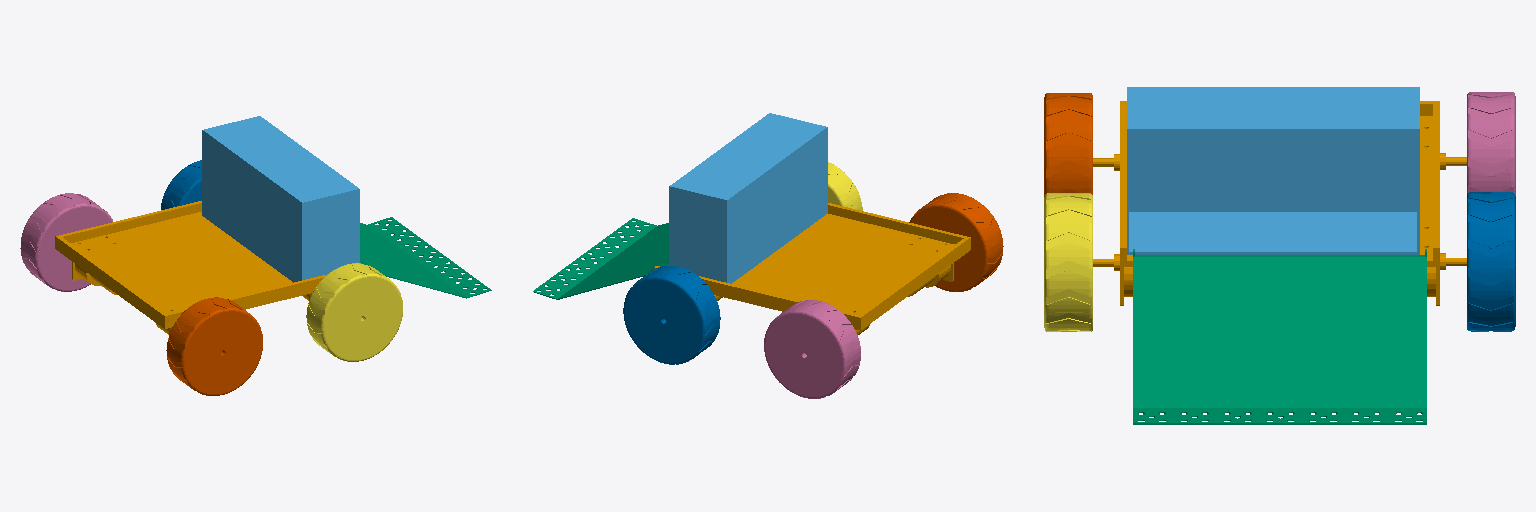
The robot description file, URDF, robot "swcr":
<?xml version="1.0"?>
<robot name="swcr">
  <link name="base_link">
    <visual>
    	<origin rpy="0.0 0 0" xyz="0 0 0"/>
          <geometry>
            <mesh filename="package://swcr/meshes/base_link.dae"/>
          </geometry>
    </visual>
  </link>

  <link name="bin_link">
    <visual>
      <origin xyz="0 0 0" rpy="0 0 0"/>
      <geometry>
        <mesh filename="package://swcr/meshes/Bin_Link.dae"/>
      </geometry>
    </visual>
  </link>
  <joint name="bin_joint" type="fixed">
  	<parent link="base_link"/>
  	<child link="bin_link"/>
  	<origin xyz="0.045 -0.00500000000000001 0.0525" rpy="3.14159265358979 0 -1.570796326794"/>
  </joint>

  <link name="pan_link">
  	<visual>
  		<origin xyz="0 0 0" rpy="0 0 0"/>
  		<geometry>
  			<mesh filename="package://swcr/meshes/Pan_Link.dae"/>
  		</geometry>
  	</visual>
  </link>
  <joint name="pan_joint" type="fixed">
  	<parent link="base_link"/>
  	<child link="pan_link"/>
  	<origin rpy="1.5707963267949 -0.0688308576600601 0" xyz="0.11821106537886 0 0.0043695506838019"/>
  </joint>

  <link name="wheel1f_link">
  	<visual>
  		<origin xyz="0.085 -0.1513 -0.0175650643543415" rpy="1.86455912828869 0 1.5707963267949"/>
      <geometry>
        <mesh filename="package://swcr/meshes/Wheel1R_Link.dae"/>
      </geometry>
    </visual>
  </link>
  <joint name="wheel_joint" type="continuous">
      <axis xyz="1 0 0" rpy="0 0 0" />
      <parent link="base_link"/>
      <child link="wheel1f_link"/>
      <origin xyz="0 0 0" rpy="0 0 0"/>
   </joint>

  <link name="wheel2f_link">
  	<visual>
  		<origin xyz="0 0 0" rpy="0 0 0"/>
  		<geometry>
  			<mesh filename="package://swcr/meshes/Wheel1R_Link.dae"/>
  		</geometry>
  	</visual>
  </link>
  <joint name="wheel2f_joint" type="fixed">
  	<parent link="base_link"/>
  	<child link="wheel2f_link"/>
  	<origin xyz="0.0823186569435573 0.1513 -0.0180989682049121" rpy="-1.5707963267949 0 -1.5707963267949"/>
   </joint>


   <link name="wheel1b_link">
  	<visual>
  		<origin xyz="0 0 0" rpy="0 0 0"/>
      <geometry>
        <mesh filename="package://swcr/meshes/Wheel1R_Link.dae"/>
      </geometry>
    </visual>
  </link>
  <joint name="wheel1b_joint" type="fixed">
  	<parent link="base_link"/>
  	<child link="wheel1b_link"/>
  	<origin xyz="-0.085 -0.1513 -0.0175650643543415" rpy="1.86455912828869 0 1.5707963267949"/>
  </joint>

  <link name="wheel2b_link">
  	<visual>
  		<origin xyz="0 0 0" rpy="0 0 0"/>
      <geometry>
        <mesh filename="package://swcr/meshes/Wheel1R_Link.dae"/>
      </geometry>
    </visual>
  </link>
  <joint name="wheel2b_joint" type="fixed">
  	<parent link="base_link"/>
  	<child link="wheel2b_link"/>
  	<origin xyz="-0.087681 0.1513 -0.018099" rpy="2.7665 0 -1.5708"/>
  </joint>
</robot>

--- What the picture shows (computed from the rendered views, not written in the file) ---
Views: 3 orthographic renders of the robot side by side, from view 1: azimuth 30°, elevation 25°; view 2: azimuth 150°, elevation 25°; view 3: azimuth 270°, elevation 25°.
Robot: swcr — 7 links, 6 joints (1 continuous, 5 fixed); root link base_link; default pose: every joint at zero.
Visible links, largest first — view 1: bin_link, base_link, wheel1f_link, wheel1b_link, pan_link, wheel2b_link, wheel2f_link; view 2: bin_link, base_link, wheel2b_link, wheel2f_link, pan_link, wheel1b_link, wheel1f_link; view 3: pan_link, bin_link, wheel2f_link, wheel1f_link, base_link, wheel1b_link, wheel2b_link.
Boxes of the visible links, box(x1,y1,x2,y2) form: bin_link: box(202, 116, 359, 282); base_link: box(55, 201, 369, 334); wheel1f_link: box(306, 263, 402, 361); wheel1b_link: box(166, 297, 262, 395); pan_link: box(360, 217, 491, 298); wheel2b_link: box(20, 193, 112, 291); wheel2f_link: box(161, 160, 201, 209); bin_link: box(669, 113, 827, 283); base_link: box(654, 203, 970, 334); wheel2b_link: box(764, 300, 860, 398); wheel2f_link: box(623, 266, 720, 364); pan_link: box(533, 218, 668, 299); wheel1b_link: box(909, 193, 1003, 291); wheel1f_link: box(828, 162, 862, 210); pan_link: box(1133, 249, 1426, 424); bin_link: box(1127, 87, 1419, 254); wheel2f_link: box(1467, 192, 1515, 331); wheel1f_link: box(1044, 193, 1092, 331); base_link: box(1093, 101, 1466, 305); wheel1b_link: box(1044, 93, 1092, 196); wheel2b_link: box(1467, 92, 1515, 195).
Bounding box of the posed robot: 0.4154 × 0.3376 × 0.1706 m (x, y, z).
7 mesh visuals loaded from 4 distinct referenced files (4 Collada DAE).
